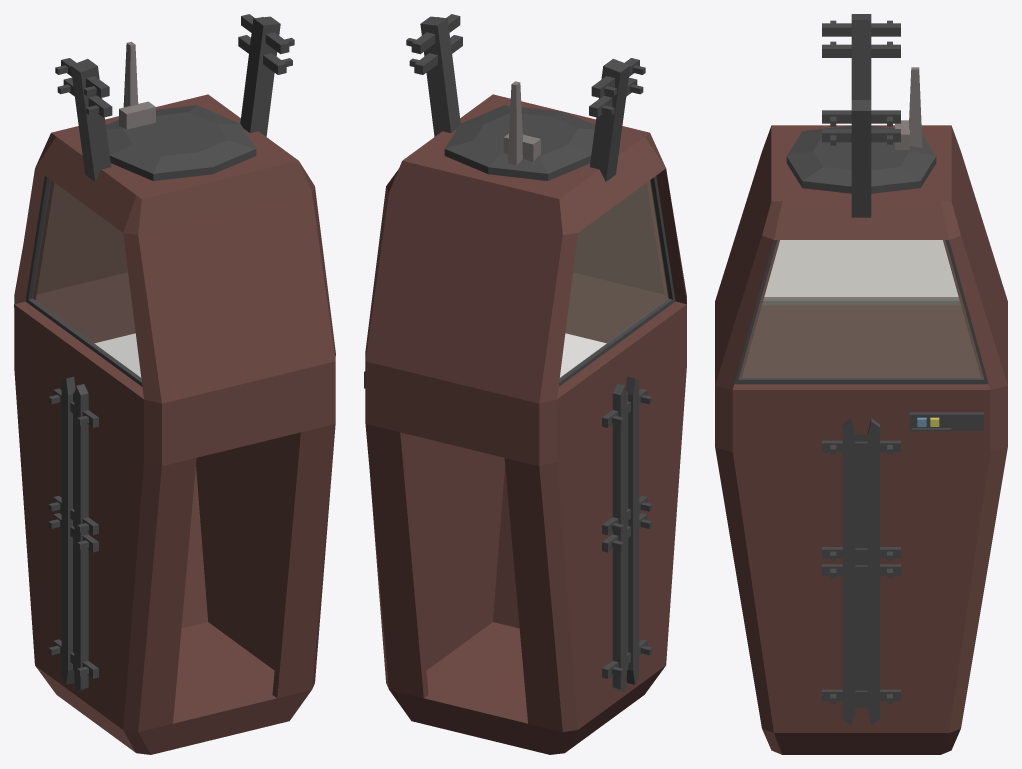
Rendered from Cabine.fbx.
3 views of the same model, side by side, from view 1: azimuth 30°, elevation 25°; view 2: azimuth 150°, elevation 25°; view 3: azimuth 270°, elevation 25° (orthographic).
Parts seen in each view (by area): view 1: Cabine; view 2: Cabine; view 3: Cabine.
Boxes of the visible parts, x1,y1,x2,y2 form: Cabine: [14, 14, 335, 754]; Cabine: [364, 14, 686, 754]; Cabine: [715, 14, 1007, 754].
Size of the model in its own units: 281 by 806 by 325.
